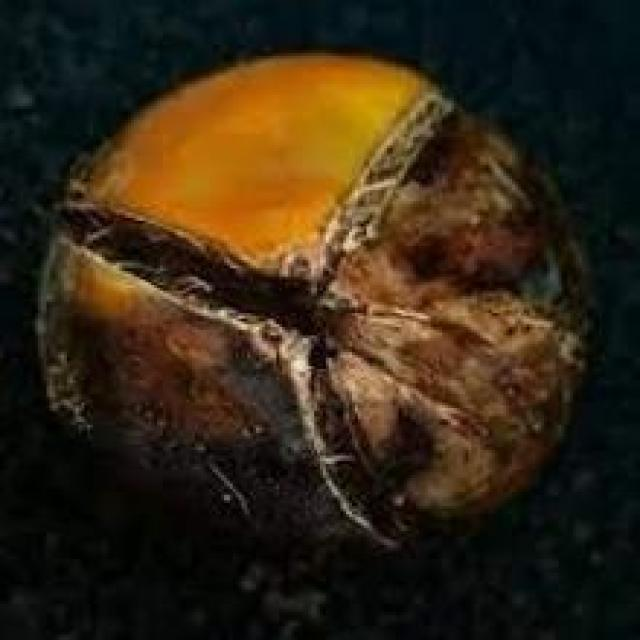damaged: (35, 56, 585, 548)
